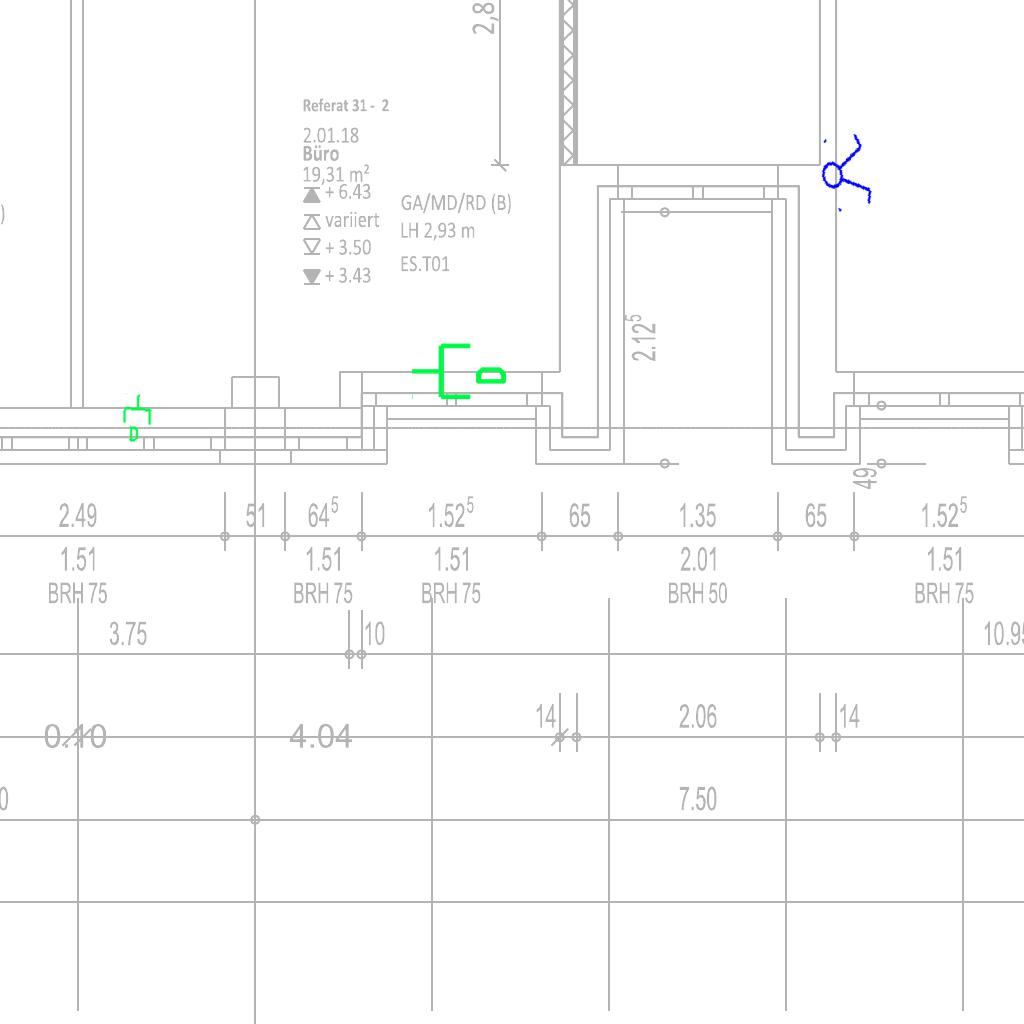Datenanschluss_einfach: (409, 335, 509, 404), (119, 391, 157, 445)
Serienschalter: (812, 125, 878, 219)
